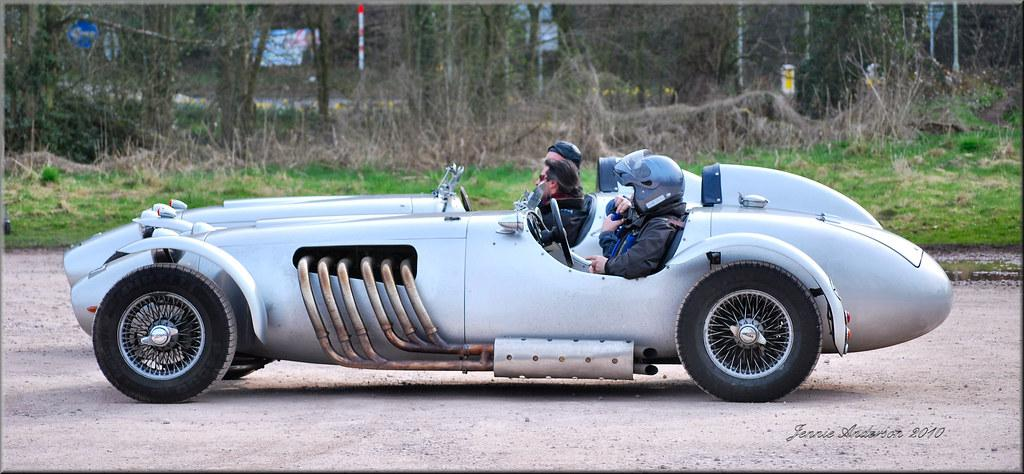car: (63, 154, 955, 405)
